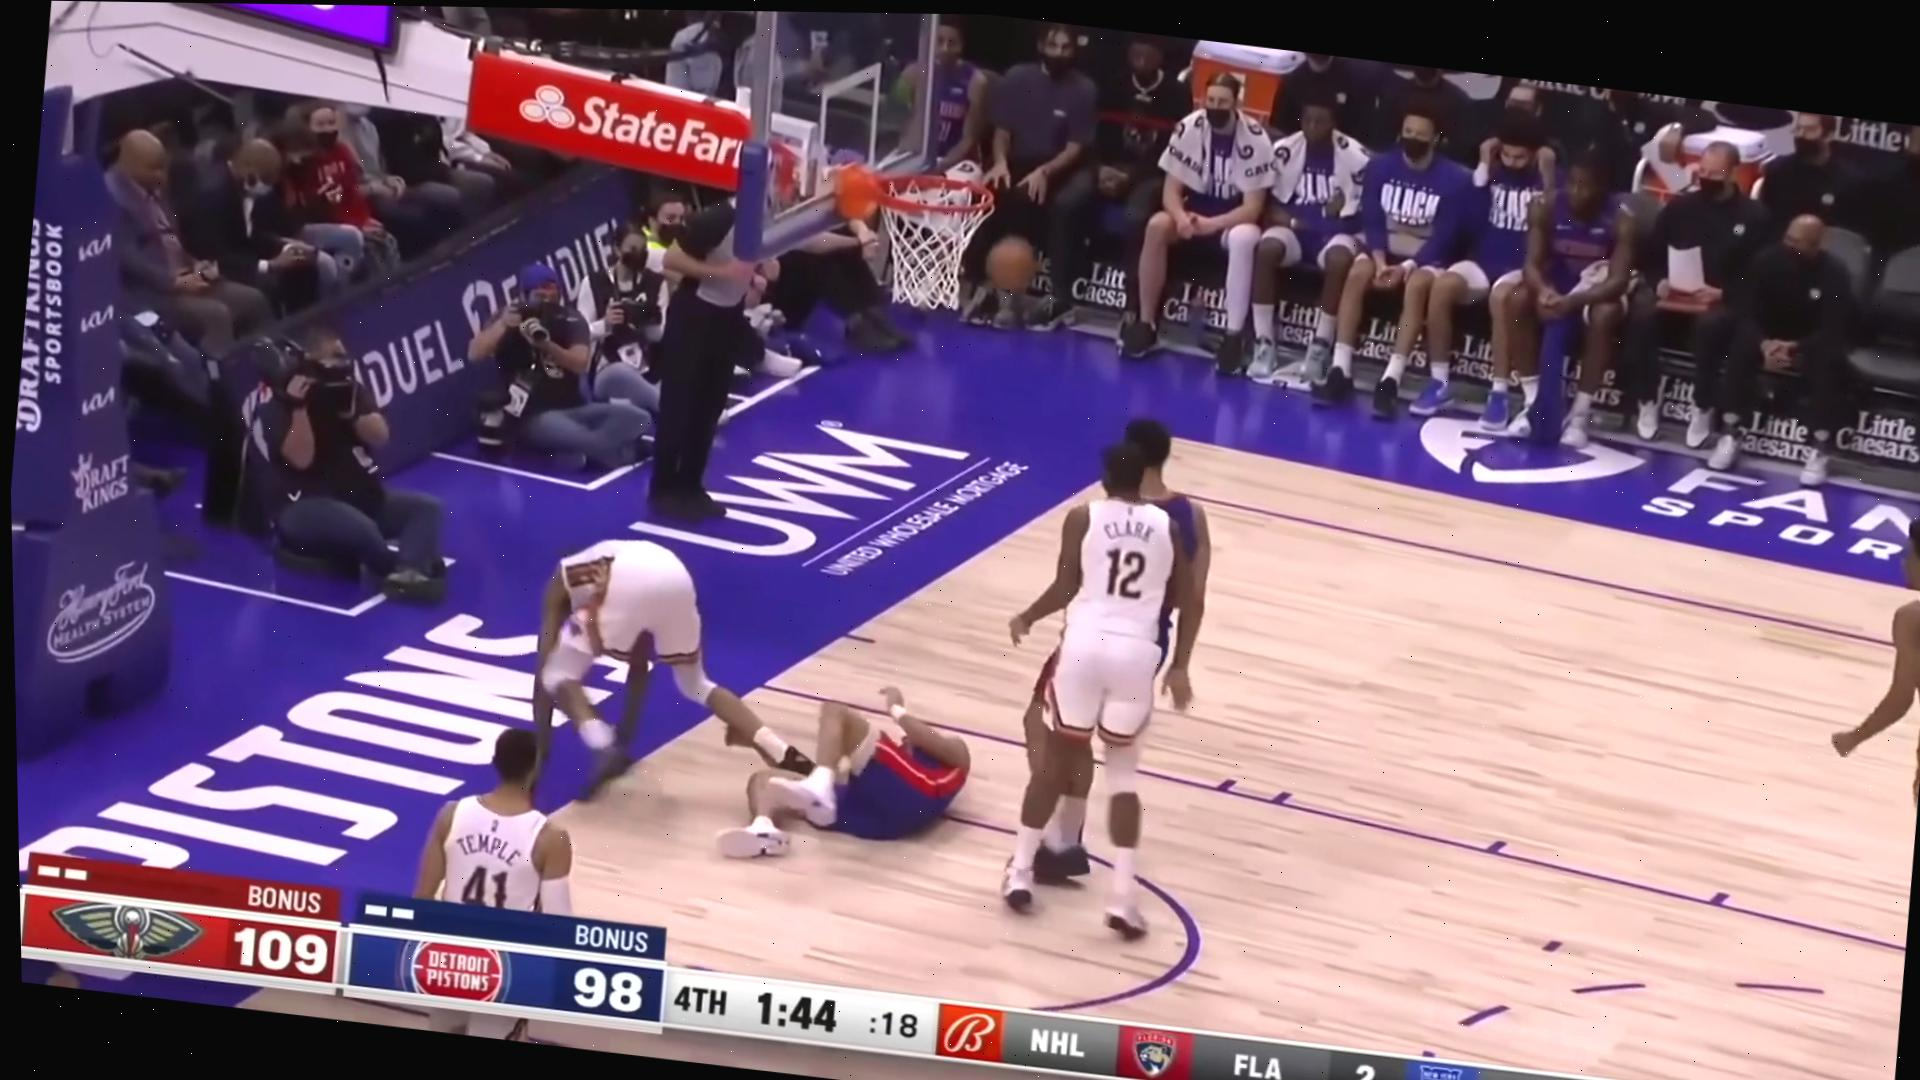foul: (514, 483, 1004, 869)
